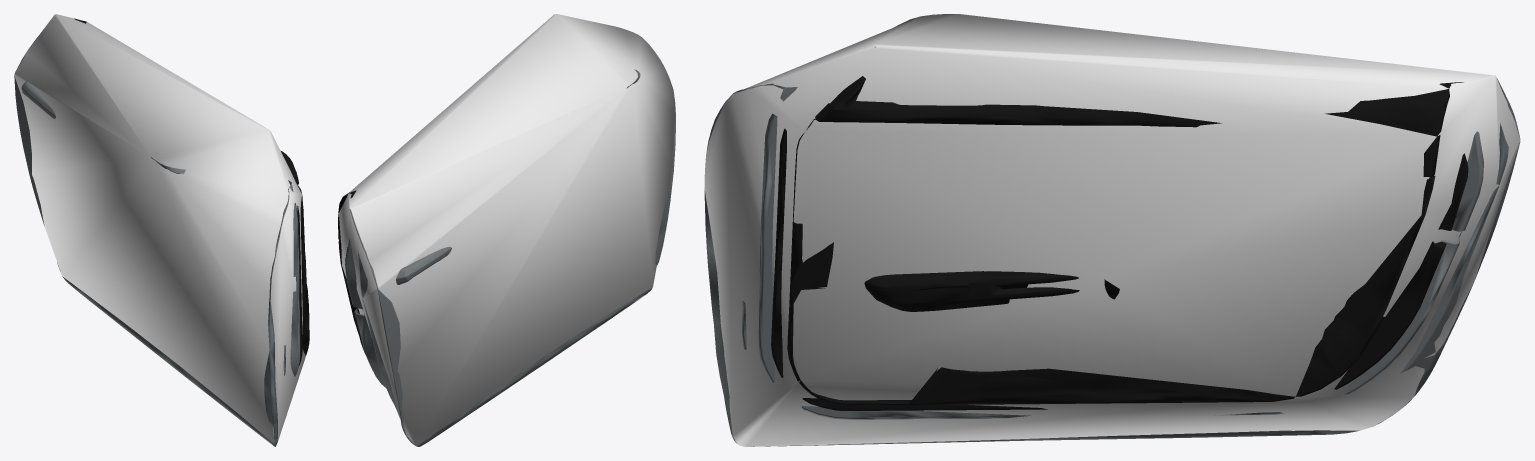
3 renders of one model, left to right at view 1: azimuth 30°, elevation 25°; view 2: azimuth 150°, elevation 25°; view 3: azimuth 270°, elevation 25°, orthographic. The views are drawn at different scales.
Parts seen in each view (by area): view 1: panel_stampede_door_l_01_col, panel_stampede_door_l_01; view 2: panel_stampede_door_l_01_col, panel_stampede_door_l_01; view 3: panel_stampede_door_l_01_col, panel_stampede_door_l_01.
Boxes of the visible parts, x1,y1,x2,y2 form: panel_stampede_door_l_01_col: (14, 14, 305, 446); panel_stampede_door_l_01: (14, 18, 309, 446); panel_stampede_door_l_01_col: (338, 14, 675, 445); panel_stampede_door_l_01: (338, 26, 675, 446); panel_stampede_door_l_01_col: (704, 14, 1520, 446); panel_stampede_door_l_01: (704, 14, 1519, 446).
Bounding box in the file's own units: 0.3597 × 0.8067 × 1.39.
Materials: 3 (2 with a texture image).
